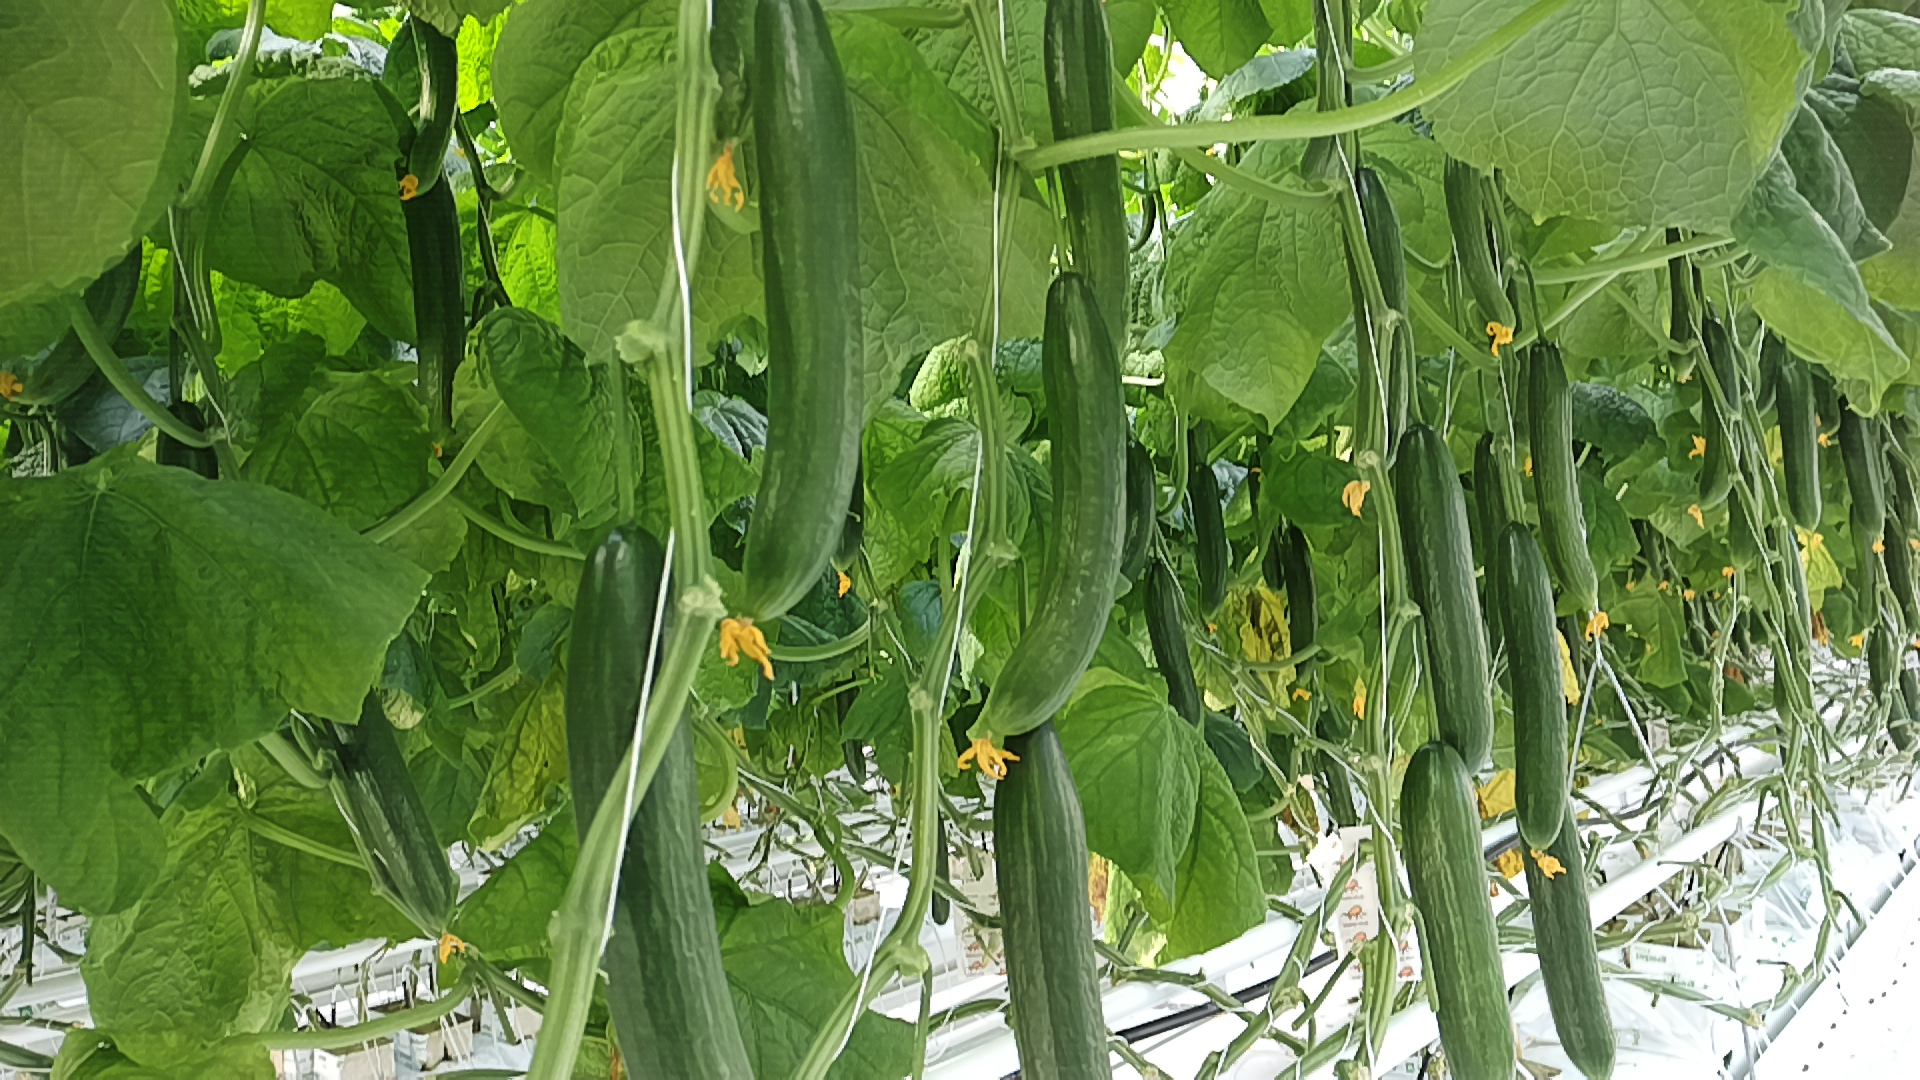gurka: (551, 501, 775, 1080), (703, 1, 884, 632), (935, 272, 1156, 762), (971, 705, 1141, 1080), (1385, 709, 1526, 1080), (1507, 761, 1655, 1080), (1379, 404, 1505, 774), (1514, 338, 1625, 628), (1684, 311, 1753, 513), (1767, 349, 1834, 543), (1828, 382, 1900, 541)
